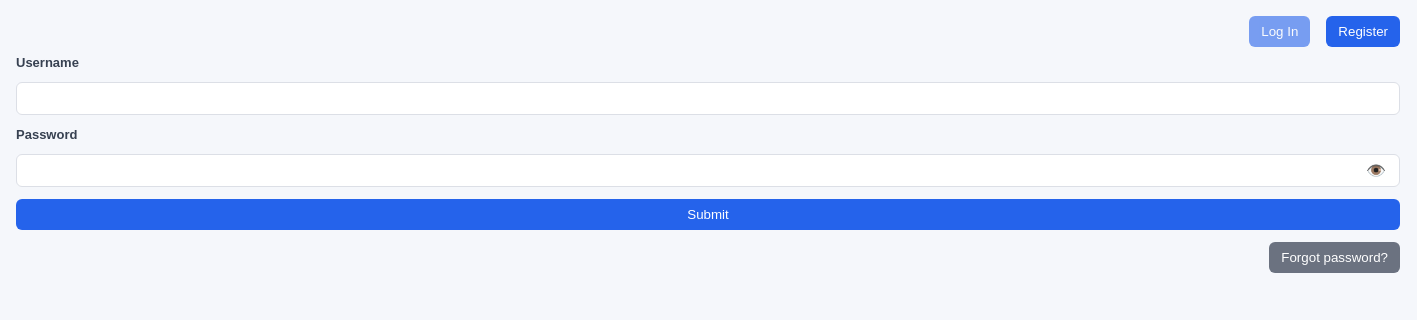
Test: Auth Component › handles failed login
In the field labelled "Username": (708, 98) [16, 82, 1400, 115], type "wronguser"
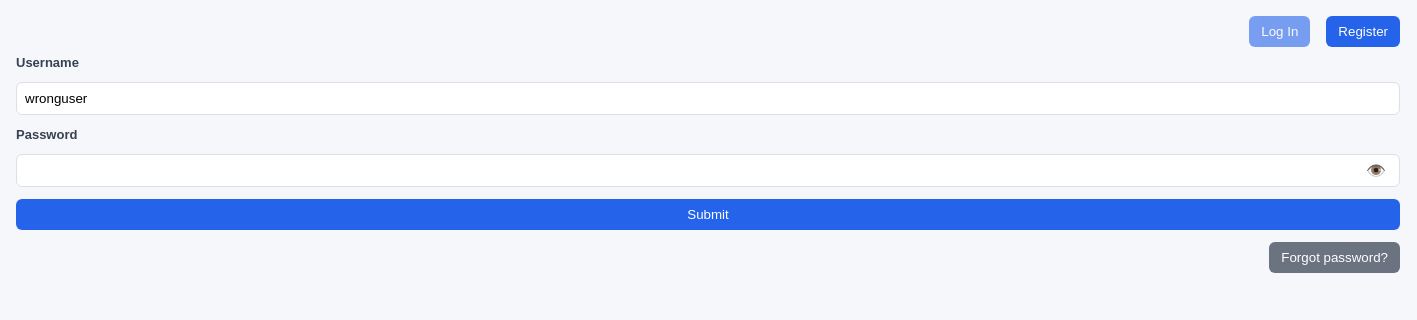
In the password field labelled "Password": (708, 170) [16, 154, 1400, 187], type "wrongpassword"
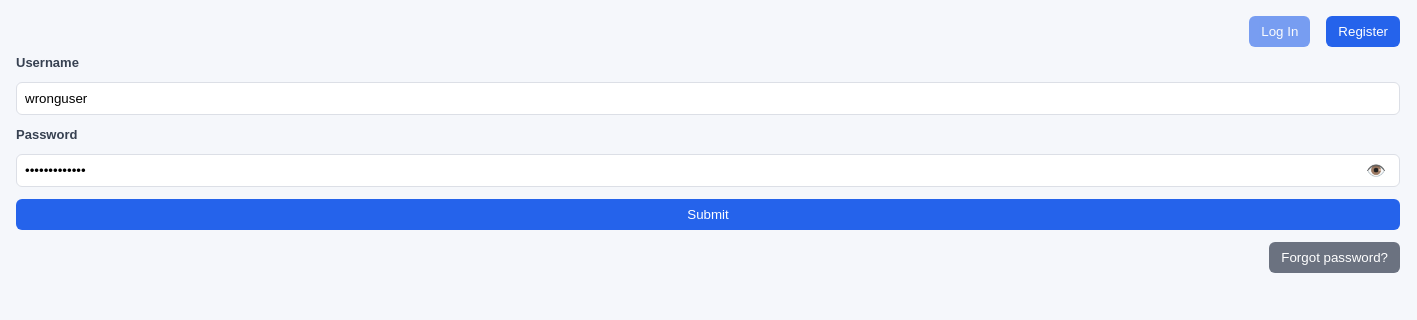
Click the button "Submit": (708, 214) [16, 199, 1400, 230]
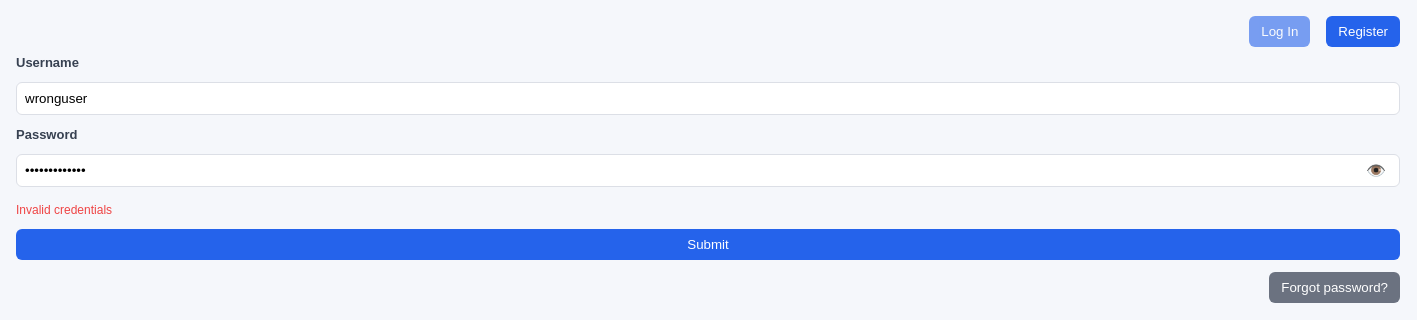
Result: the text "Invalid credentials" is shown at [16, 203, 112, 217]
